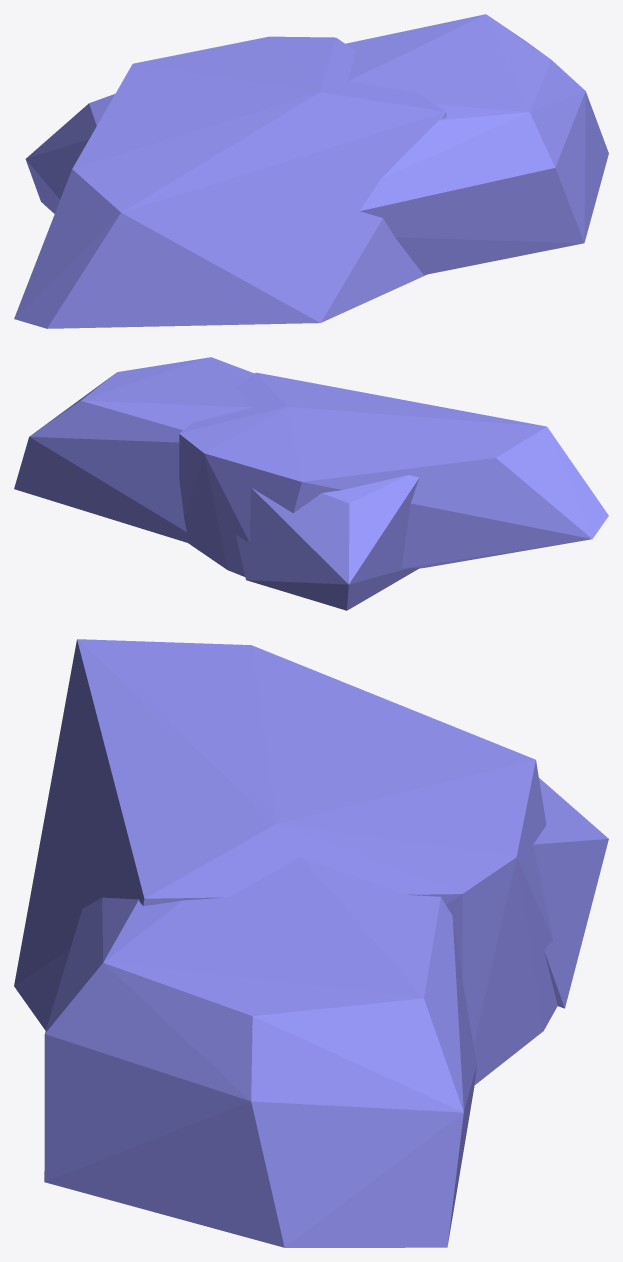
File: Plate_12_Collider_01.FBX
3 views of the same model, one above another, from view 1: azimuth 30°, elevation 25°; view 2: azimuth 150°, elevation 25°; view 3: azimuth 270°, elevation 25° (orthographic). The views are drawn at different scales.
Visible parts, largest first — view 1: COLLIDER1, COLLIDER2, COLLIDER3; view 2: COLLIDER1, COLLIDER2, COLLIDER3; view 3: COLLIDER2, COLLIDER1, COLLIDER3.
Boxes of the visible parts, x1,y1,x2,y2 form: COLLIDER1: (14,36,446,328); COLLIDER2: (345,14,608,274); COLLIDER3: (25,94,114,213); COLLIDER1: (179,372,608,576); COLLIDER2: (14,357,254,542); COLLIDER3: (236,475,420,610); COLLIDER2: (44,856,476,1247); COLLIDER1: (14,639,557,1084); COLLIDER3: (533,778,608,1008).
Size of the model in its own units: 432 by 100 by 227.
